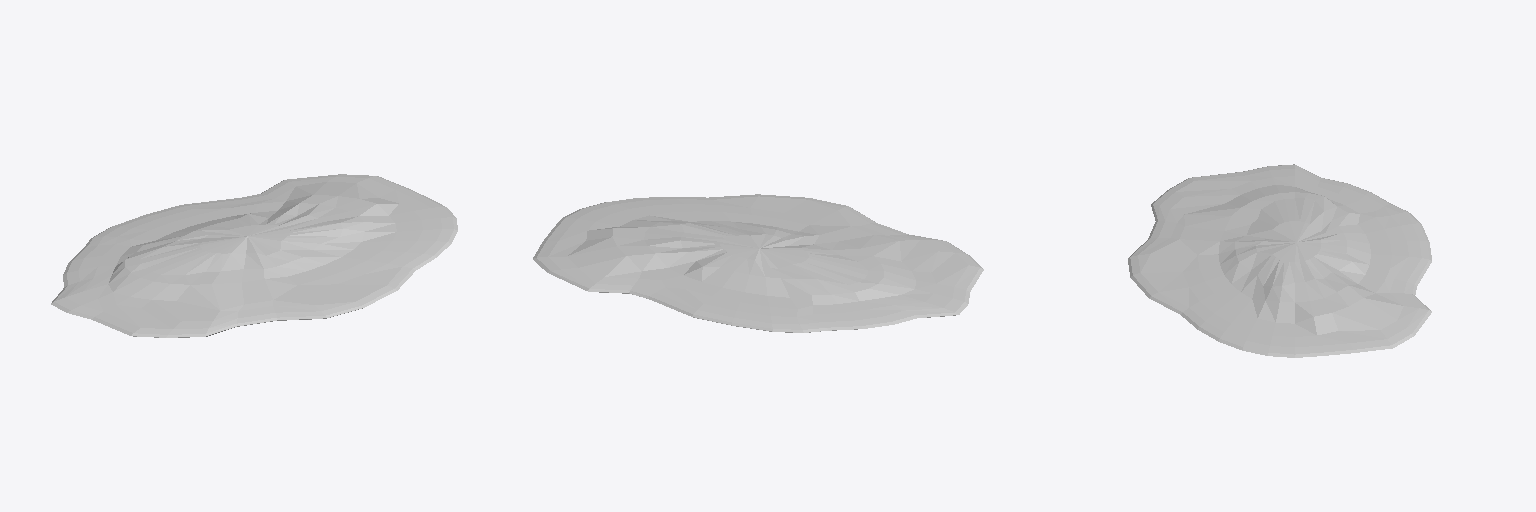
The model's file is Island_2.obj.
3 renders of one model, left to right at view 1: azimuth 30°, elevation 25°; view 2: azimuth 150°, elevation 25°; view 3: azimuth 270°, elevation 25°, orthographic.
Visible parts, largest first — view 1: Sphere; view 2: Sphere; view 3: Sphere.
Boxes of the visible parts, x1,y1,x2,y2 form: Sphere: [51, 174, 457, 337]; Sphere: [533, 194, 983, 332]; Sphere: [1128, 164, 1431, 357].
Size of the model in its own units: 10 by 0.6498 by 6.65.